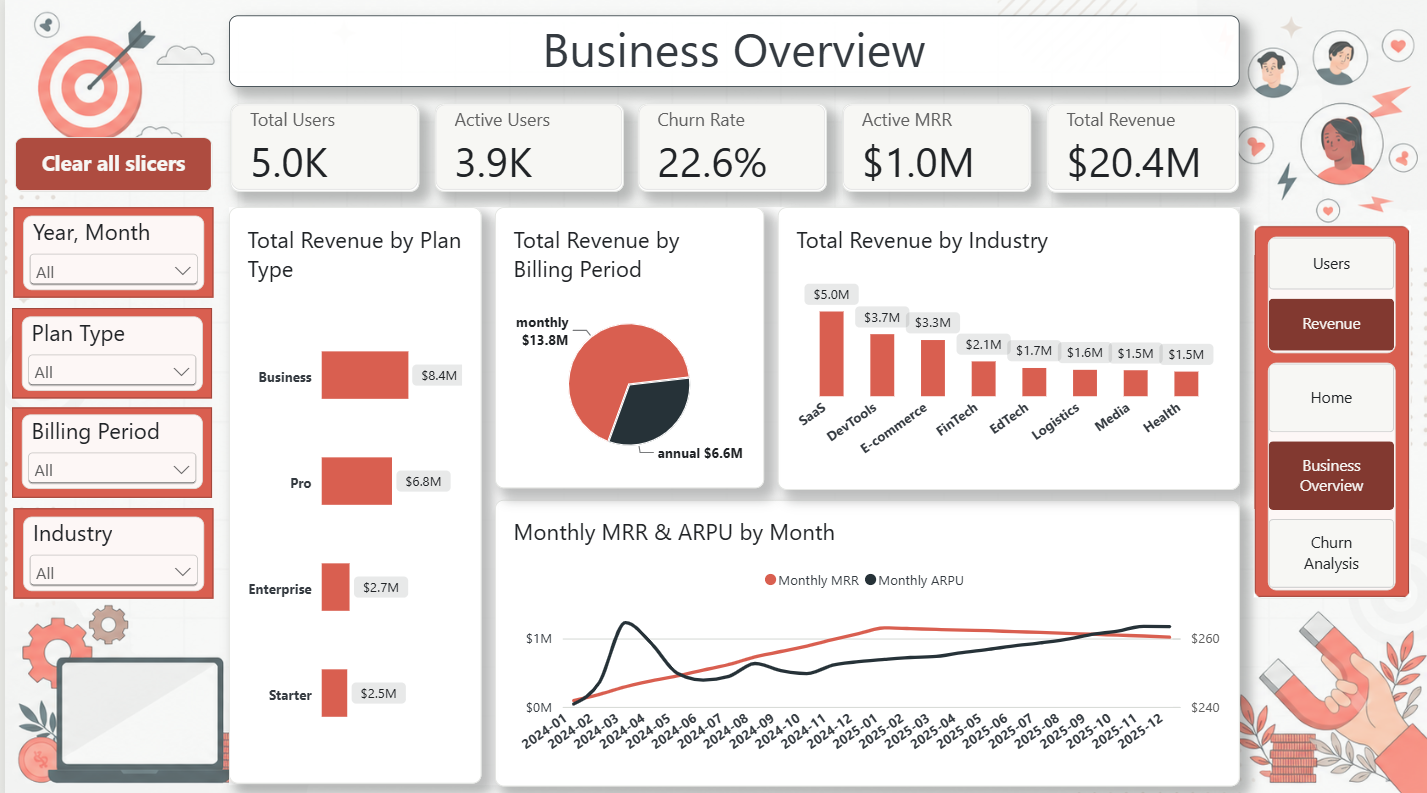

This screenshot's page, from the dashboard's own definition file:
{"tool":"powerbi","page":{"name":"Business Overview","canvas":[1280,720],"ordinal":1},"visuals":[{"type":"textbox","box":[201.8,13.6,908.9,64.4],"z":0},{"type":"clusteredBarChart","title":"Total Users by Plan Type","fields":{"Category":["public users.plan_type"],"Y":["DAX Measures.Total Users"]},"box":[201.8,186.5,227.2,518.9],"z":0,"group":"g5"},{"type":"shape","box":[7.3,186.6,180,81.4],"z":0,"group":"g6"},{"type":"shape","box":[6.6,276.6,180,81.4],"z":0,"group":"g8"},{"type":"shape","box":[6,366.6,180,81.4],"z":0,"group":"g9"},{"type":"shape","box":[7.9,456.6,180,81.4],"z":0,"group":"g10"},{"type":"clusteredColumnChart","fields":{"Category":["public users.industry"],"Y":["DAX Measures.Total Users"]},"box":[695.3,186.5,415.5,254.4],"z":1000,"group":"g5"},{"type":"group","id":"g1","title":"Group 1","box":[7.3,186.6,180,81.4],"z":1000},{"type":"slicer","fields":{"Values":["public user_monthly.month.Variation.Date Hierarchy.Year","public user_monthly.month.Variation.Date Hierarchy.Month"]},"box":[16.7,193.7,162.6,66.8],"z":1000,"group":"g6"},{"type":"slicer","fields":{"Values":["public users.plan_type"]},"box":[16,284.4,162.6,66.8],"z":1000,"group":"g8"},{"type":"slicer","fields":{"Values":["public users.billing_period"]},"box":[15.4,373.4,162.6,66.8],"z":1000,"group":"g9"},{"type":"slicer","fields":{"Values":["public users.industry"]},"box":[17.3,464.2,162.6,66.8],"z":1000,"group":"g10"},{"type":"pieChart","title":"Total Users by Billing Period","fields":{"Category":["public users.billing_period"],"Y":["DAX Measures.Total Users"]},"box":[440.9,186.5,242.5,254.4],"z":2000,"group":"g5"},{"type":"group","id":"g2","title":"Group 2","box":[6.6,276.6,180,81.4],"z":2000},{"type":"group","id":"g3","title":"Group 3","box":[6,366.6,180,81.4],"z":3000},{"type":"lineChart","title":"Monthly Active Users & Avg Monthly Sessions by Month","fields":{"Category":["public user_monthly.Year-Month"],"Y":["DAX Measures.Active Users"],"Y2":["DAX Measures.Avg Monthly Sessions"]},"box":[440.9,447.7,669.8,257.8],"z":3000,"group":"g5"},{"type":"group","id":"g4","title":"Group 4","box":[7.9,456.6,180,81.4],"z":4000},{"type":"cardVisual","fields":{"Data":["DAX Measures.Total Users"]},"box":[202.5,93.3,170,79.4],"z":5000},{"type":"cardVisual","fields":{"Data":["DAX Measures.Active Users1"]},"box":[386.2,93.3,170,79.4],"z":6000},{"type":"cardVisual","fields":{"Data":["DAX Measures.Churn Rate"]},"box":[569.8,93.3,170,79.4],"z":7000},{"type":"cardVisual","fields":{"Data":["DAX Measures.Active MRR"]},"box":[753.4,93.3,170,79.4],"z":8000},{"type":"cardVisual","fields":{"Data":["DAX Measures.Total Revenue"]},"box":[937.8,93.3,173,79.7],"z":9000},{"type":"shape","box":[1123.7,202.5,141,335.5],"z":10000,"group":"g7"},{"type":"group","id":"g5","title":"Users Group","box":[201.8,186.5,908.9,518.9],"z":11000},{"type":"bookmarkNavigator","box":[1136.2,212,115.3,105.1],"z":13000,"group":"g7"},{"type":"actionButton","box":[8.5,123.8,178.1,49.2],"z":14000},{"type":"pageNavigator","box":[1136.2,325.6,115.3,205.2],"z":15000,"group":"g7"},{"type":"group","id":"g6","title":"Group 5","box":[7.3,186.6,180,81.4],"z":15001,"group":"g1"},{"type":"group","id":"g7","title":"Group 9","box":[1123.7,202.5,141,335.5],"z":15001},{"type":"group","id":"g8","title":"Group 6","box":[6.6,276.6,180,81.4],"z":15001,"group":"g2"},{"type":"group","id":"g9","title":"Group 7","box":[6,366.6,180,81.4],"z":15001,"group":"g3"},{"type":"group","id":"g10","title":"Group 8","box":[7.9,456.6,180,81.4],"z":15001,"group":"g4"}]}

Visuals, with their boxes in screenshot pixels (x1, y1, x2, y2), scaled from the page's 1280x720 canvas onto the 1427x793 screenshot:
textbox: 225:15:1238:86
"Total Users by Plan Type" clusteredBarChart: 225:205:478:777
shape: 8:206:209:295
shape: 7:305:208:394
shape: 7:404:207:493
shape: 9:503:209:593
clusteredColumnChart - public users.industry x DAX Measures.Total Users: 775:205:1238:486
"Group 1" group: 8:206:209:295
slicer - public user_monthly.month.Variation.Date Hierarchy.Year x public user_monthly.month.Variation.Date Hierarchy.Month: 19:213:200:287
slicer - public users.plan_type: 18:313:199:387
slicer - public users.billing_period: 17:411:198:485
slicer - public users.industry: 19:511:201:585
"Total Users by Billing Period" pieChart: 492:205:762:486
"Group 2" group: 7:305:208:394
"Group 3" group: 7:404:207:493
"Monthly Active Users & Avg Monthly Sessions by Month" lineChart: 492:493:1238:777
"Group 4" group: 9:503:209:593
cardVisual - DAX Measures.Total Users: 226:103:415:190
cardVisual - DAX Measures.Active Users1: 431:103:620:190
cardVisual - DAX Measures.Churn Rate: 635:103:825:190
cardVisual - DAX Measures.Active MRR: 840:103:1029:190
cardVisual - DAX Measures.Total Revenue: 1046:103:1238:191
shape: 1253:223:1410:593
"Users Group" group: 225:205:1238:777
bookmarkNavigator: 1267:233:1395:349
actionButton: 9:136:208:191
pageNavigator: 1267:359:1395:585
"Group 5" group: 8:206:209:295
"Group 9" group: 1253:223:1410:593
"Group 6" group: 7:305:208:394
"Group 7" group: 7:404:207:493
"Group 8" group: 9:503:209:593
